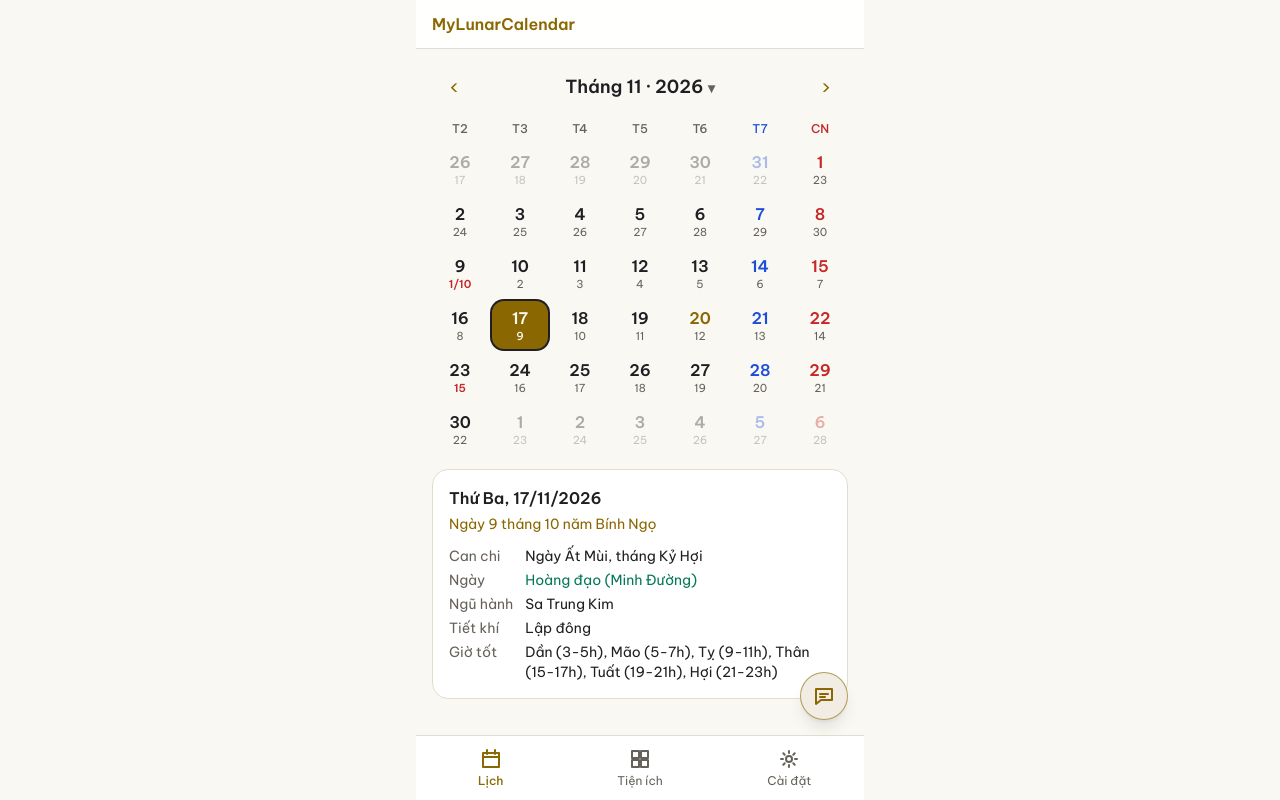
Test: tab Lịch (CAL-UC01) › chạm tiêu đề để chọn tháng, năm; Hôm nay quay về; hôm nay tô nền vàng
The image size is (1280, 800).
Click the button with aria-label "Chọn tháng, năm". click: x=640, y=87
box: [557,65,723,109]
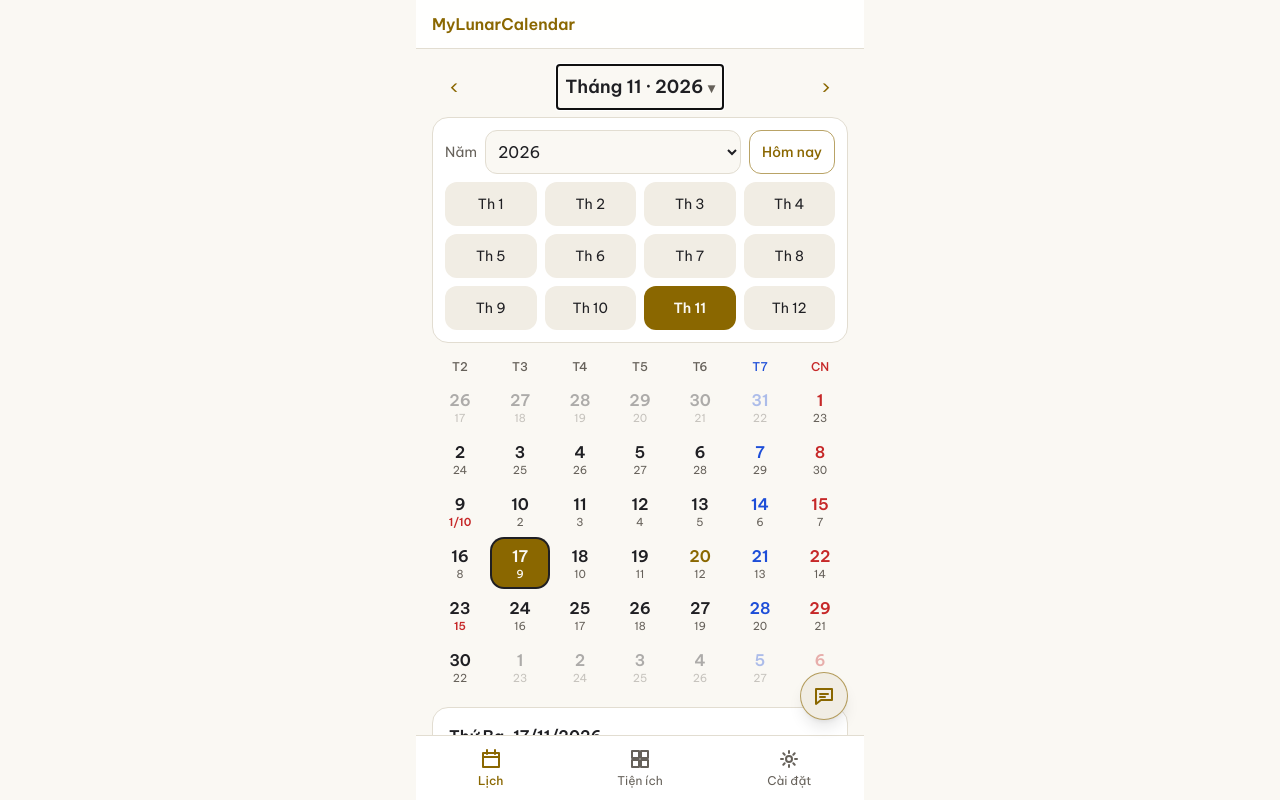
Select "1990" in the dropdown labelled "Năm". click: x=613, y=152
box: [485,130,741,174]
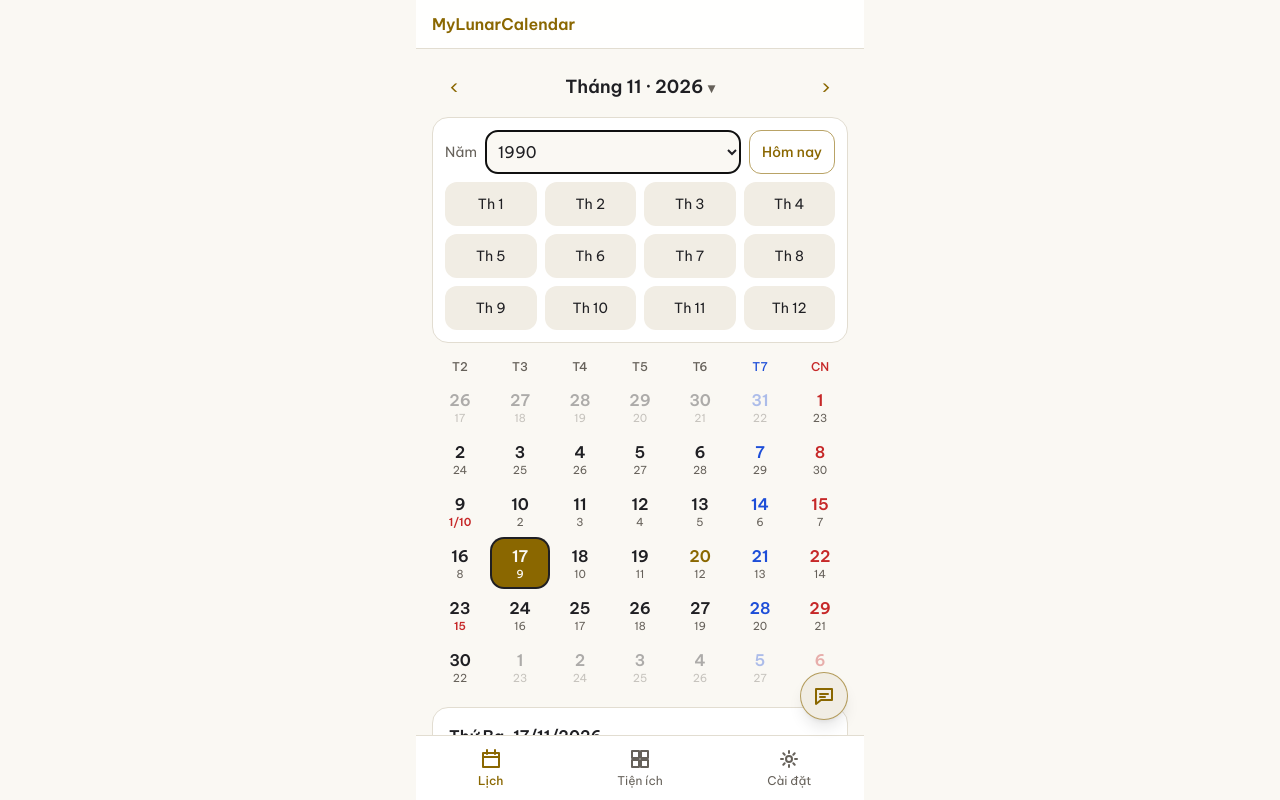
Click the button "Th 3". click: x=690, y=204
box: [644,182,736,226]
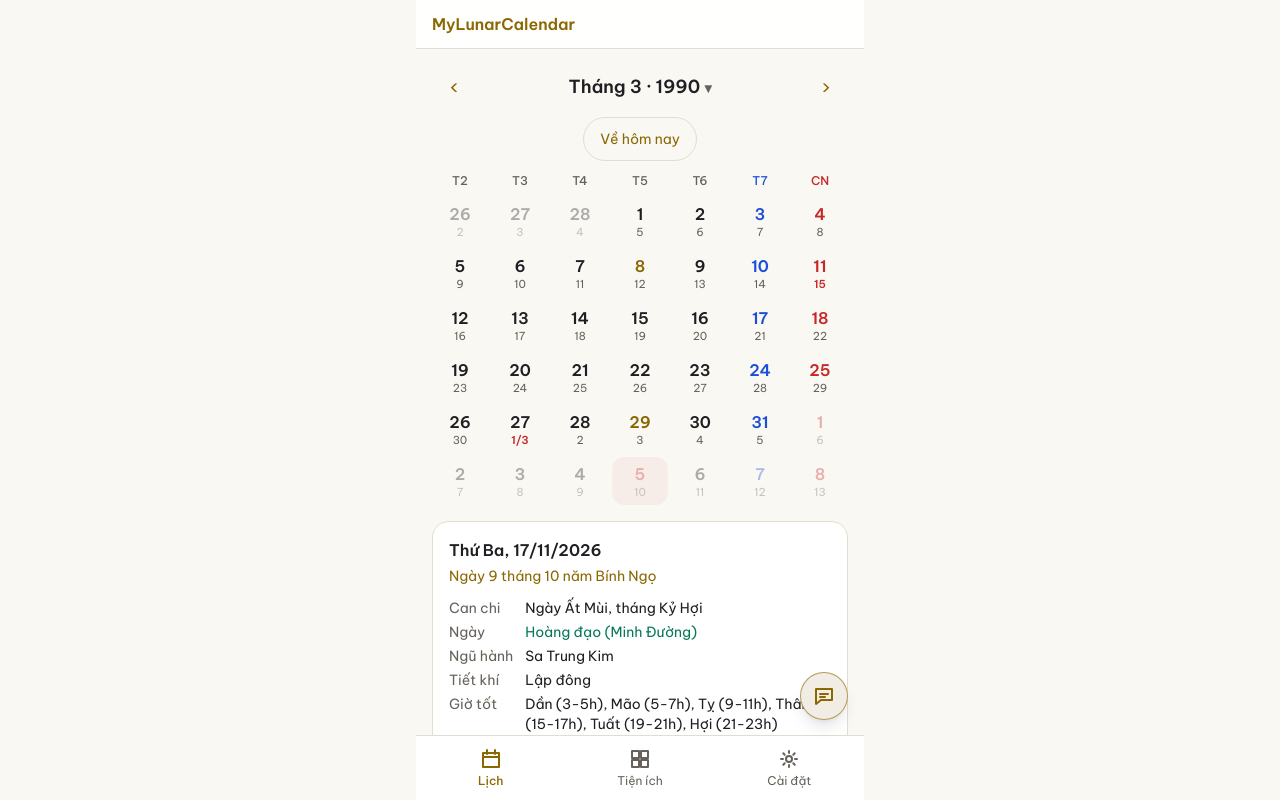
Result: the table named "Lịch tháng 3 năm 1990" is shown at [432,169,848,505]
Result: the dropdown labelled "Chọn tháng, năm" is gone
# Ngày nghỉ lễ nền đỏ nhạt (30/4)
Click the button named "Tháng sau". click: x=826, y=87
box: [804,65,848,109]
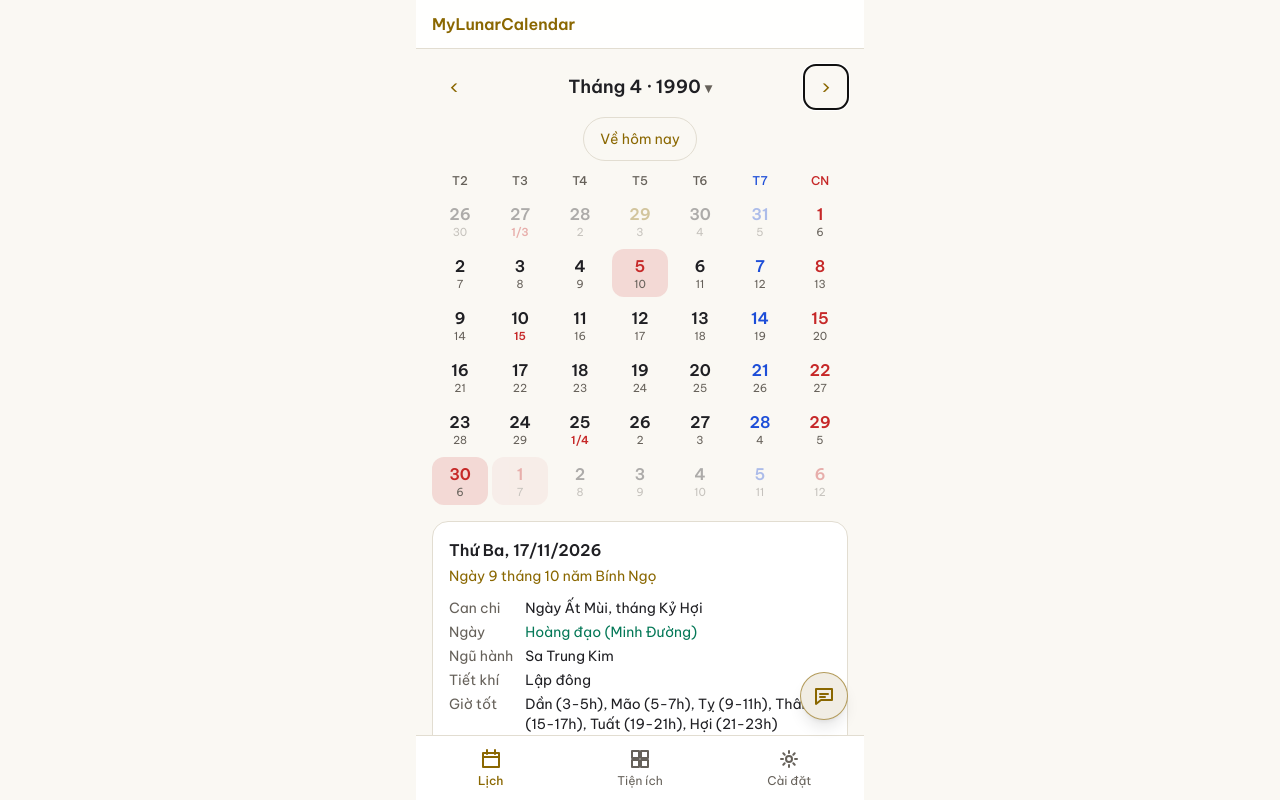
Result: the cell named "30/04/1990" has class "bg-bad/15" at [432,457,488,505]
Click the button "Về hôm nay". click: x=640, y=139
box: [583,117,697,161]
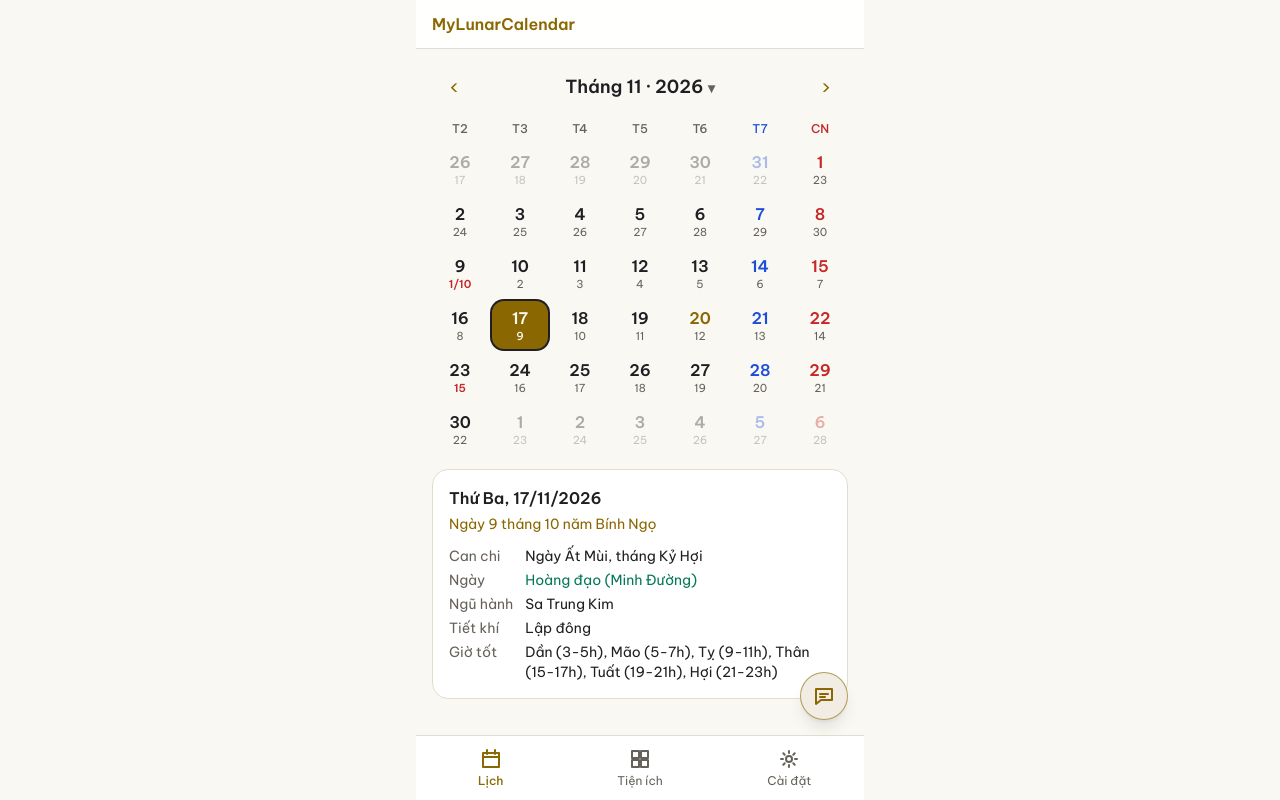
Result: the table named "Lịch tháng 11 năm 2026" is shown at [432,117,848,453]
